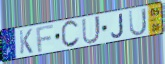C: (60, 19, 81, 49)
F: (35, 24, 55, 53)
J: (111, 13, 125, 39)
K: (18, 28, 34, 56)
U: (81, 14, 102, 45), (128, 7, 148, 38)
